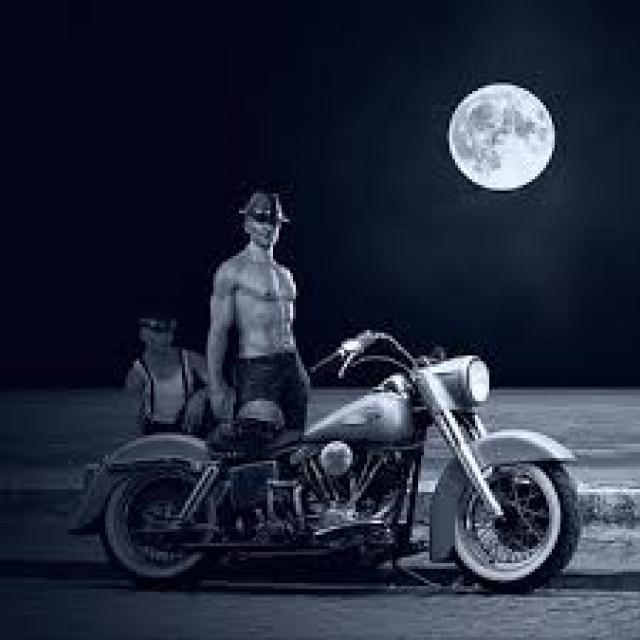Bike: (84, 335, 576, 592)
